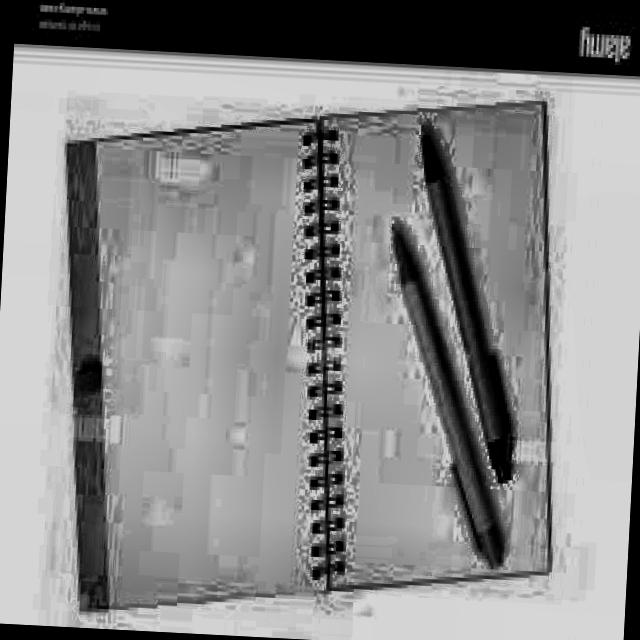Notebook: (17, 56, 614, 630)
Pen: (360, 115, 552, 568)
